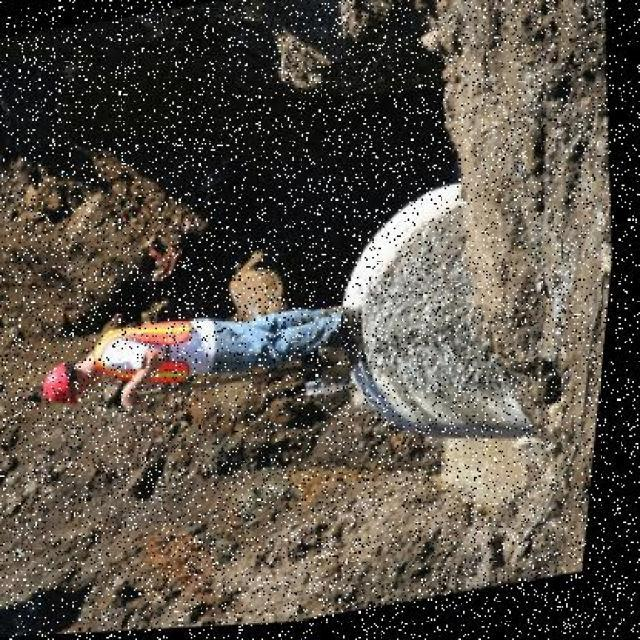helmet: (43, 360, 85, 404)
